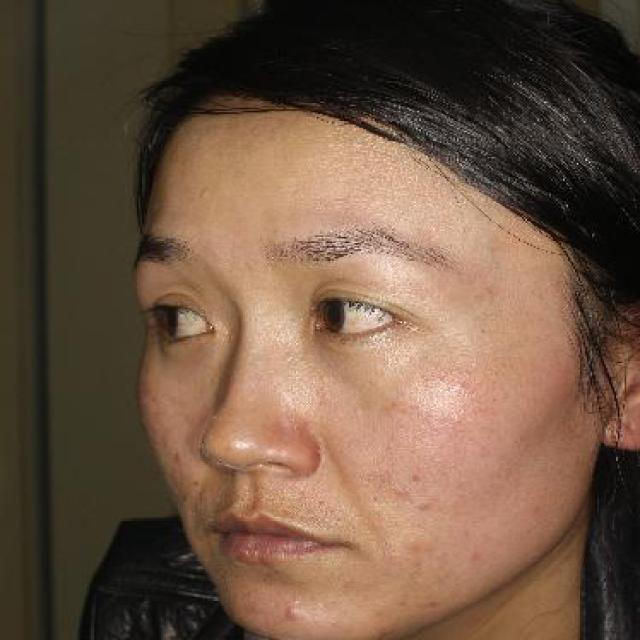darkspot: (417, 596, 446, 613), (412, 494, 432, 515), (392, 595, 414, 614), (405, 466, 424, 486), (392, 482, 410, 503), (465, 548, 485, 566), (368, 600, 386, 620)
nodules: (276, 600, 305, 625)
